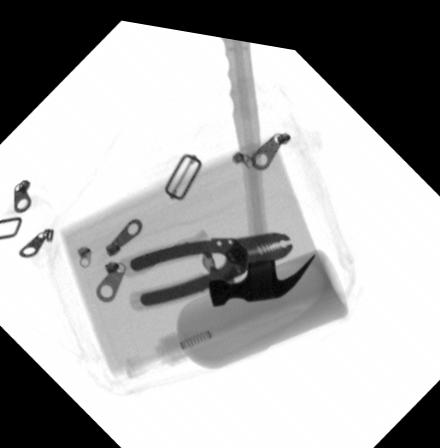Hammer: (208, 29, 315, 300)
Pliers: (118, 222, 292, 305)
